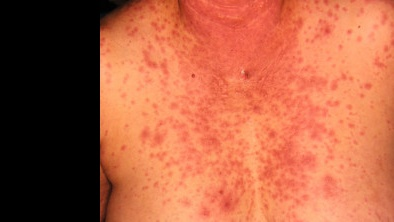SJS-TEN: (135, 0, 390, 218)
